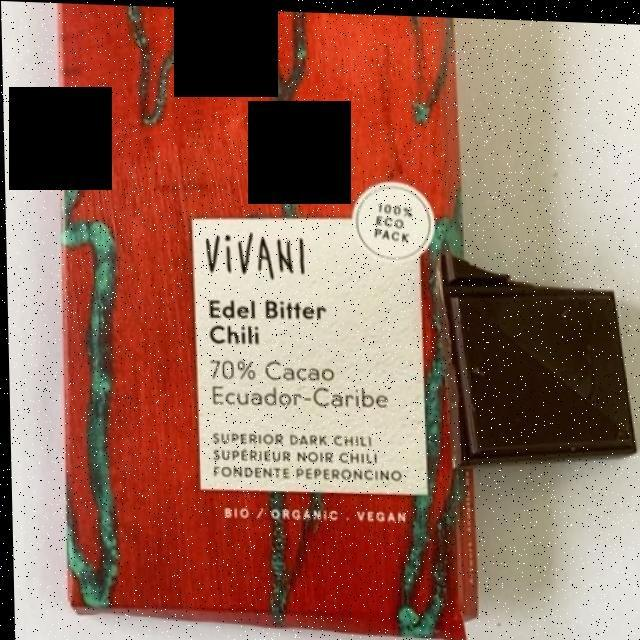chocolate: (437, 247, 629, 457)
